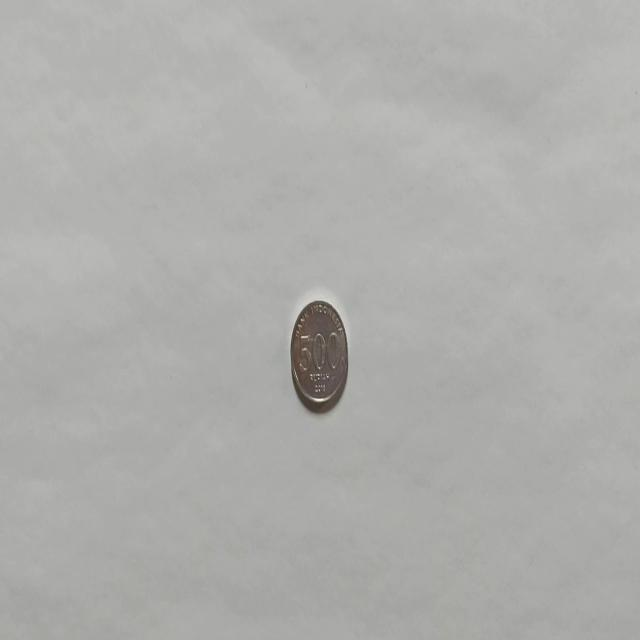lima ratus rupiah: (289, 298, 349, 412)
